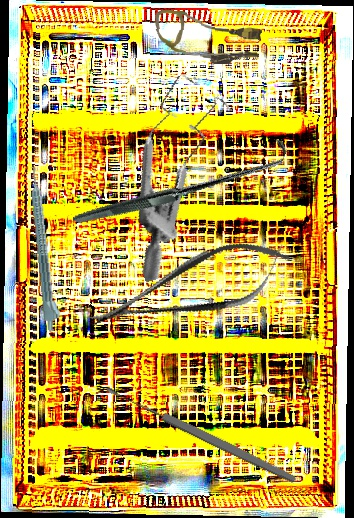Cannula: (152, 9, 263, 67)
Handpiece: (27, 165, 64, 332)
Hook Surgical: (72, 76, 290, 289)
Micro Scissor: (80, 226, 299, 350)
Speculum: (90, 64, 272, 283)
Surgical Spoon: (103, 382, 299, 486)
